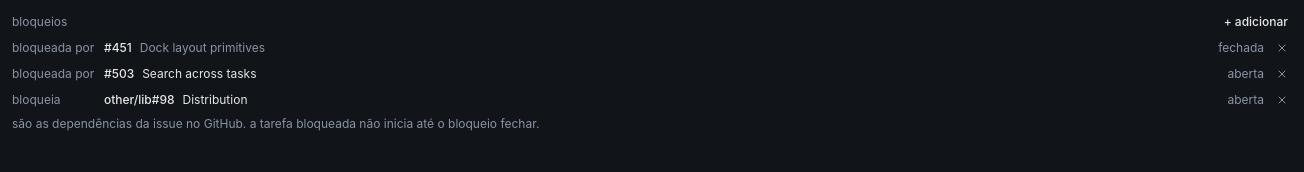
Test: a refusal shows the code's copy inline and no toast; any other failure reads Erro inesperado; the next edit clears it (#57)
This screenshot has width=1304, height=172.
What coordinates should you click on to do the following:
click the button named "remover #451"
I would click on:
 (1282, 48)
Its box is [1272,38,1292,58].
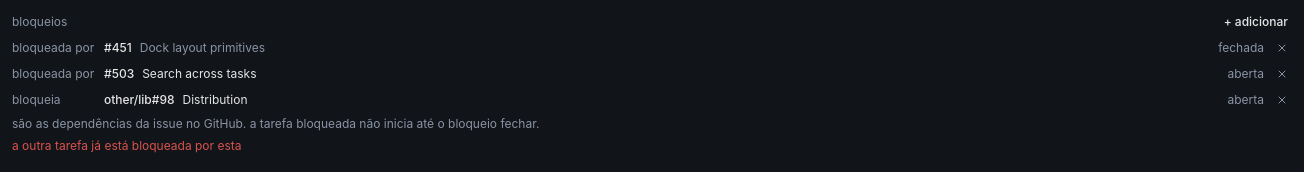
Result: the message reads "a outra tarefa já está bloqueada por esta" at [12,138,242,153]
What coordinates should you click on to do the following:
click the button named "remover #503"
I would click on:
 (1282, 74)
Its box is [1272,64,1292,84].
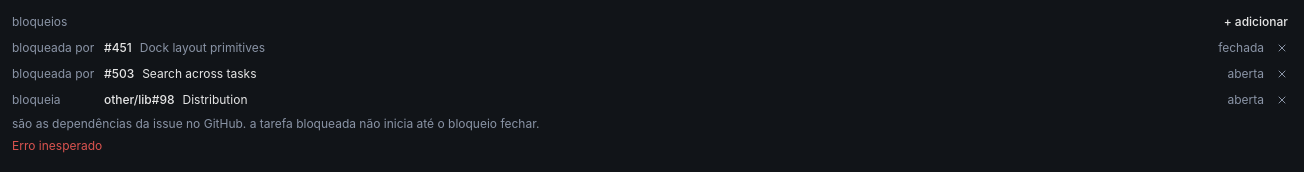
What coordinates should you click on to do the following:
click the button named "remover #451"
I would click on:
 (1282, 48)
Its box is [1272,38,1292,58].
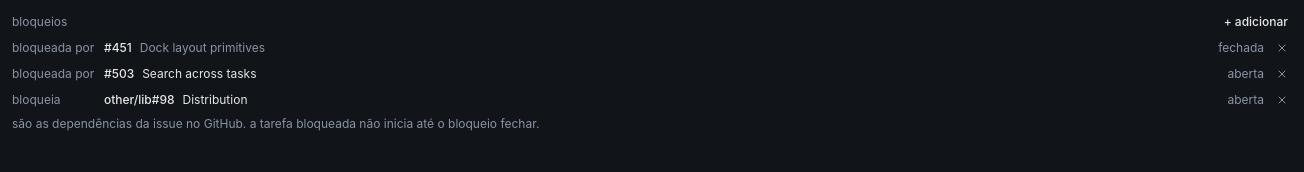
Result: the message "Erro inesperado" is gone
